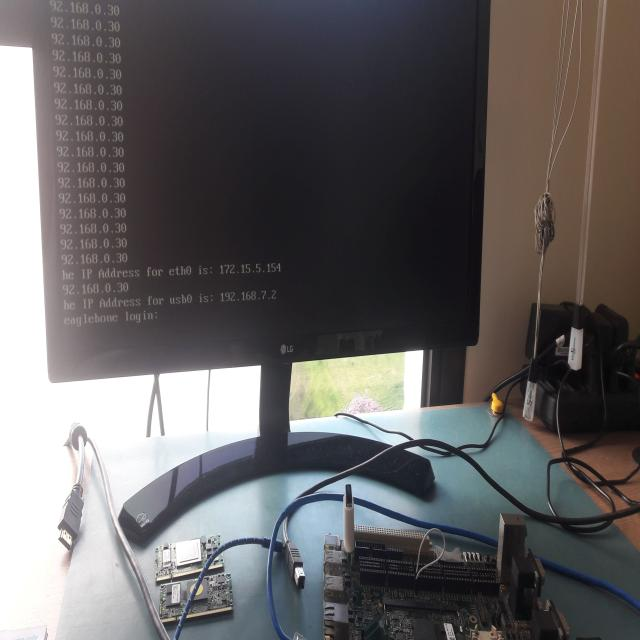som: (153, 573, 236, 623), (149, 534, 229, 582), (381, 604, 469, 639)
